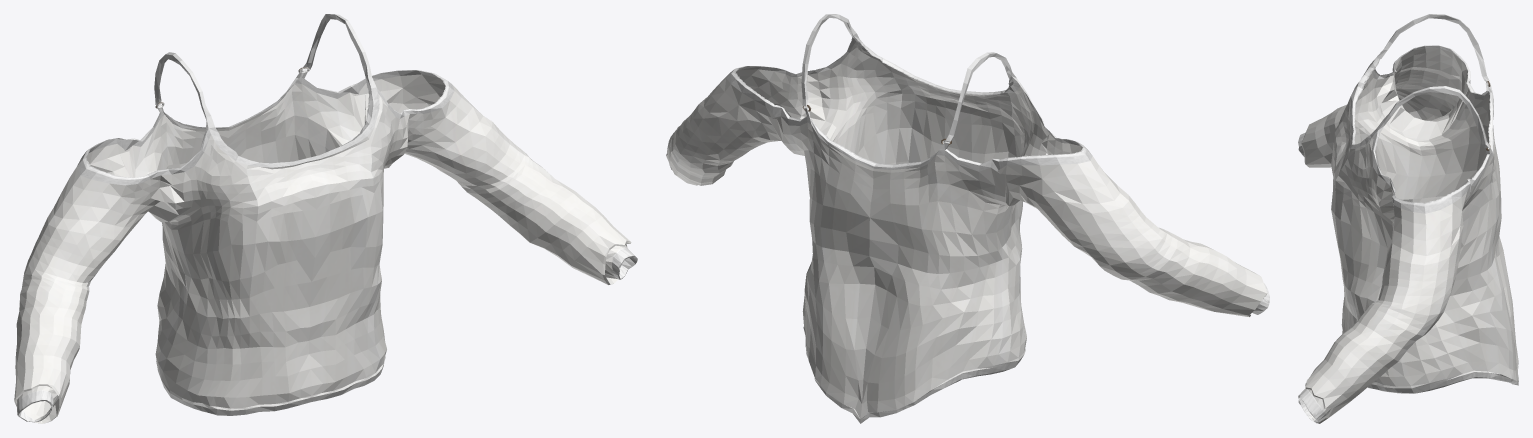
Rendered from mhw_punkduck_off-shoulder_long-sleeve_top.glb.
3 renders of one model, left to right at view 1: azimuth 30°, elevation 25°; view 2: azimuth 150°, elevation 25°; view 3: azimuth 270°, elevation 25°, orthographic. The views are drawn at different scales.
Visible parts, largest first — view 1: mhw_punkduck_off-shoulder_long-sleeve_top; view 2: mhw_punkduck_off-shoulder_long-sleeve_top; view 3: mhw_punkduck_off-shoulder_long-sleeve_top.
Part boxes in pixels (bbox=[...]): mhw_punkduck_off-shoulder_long-sleeve_top: bbox=[14, 14, 637, 423]; mhw_punkduck_off-shoulder_long-sleeve_top: bbox=[666, 14, 1269, 423]; mhw_punkduck_off-shoulder_long-sleeve_top: bbox=[1298, 14, 1518, 423].
Size of the model in its own units: 1.08 by 0.6129 by 0.3661.
Materials: 1 (1 with a texture image).
